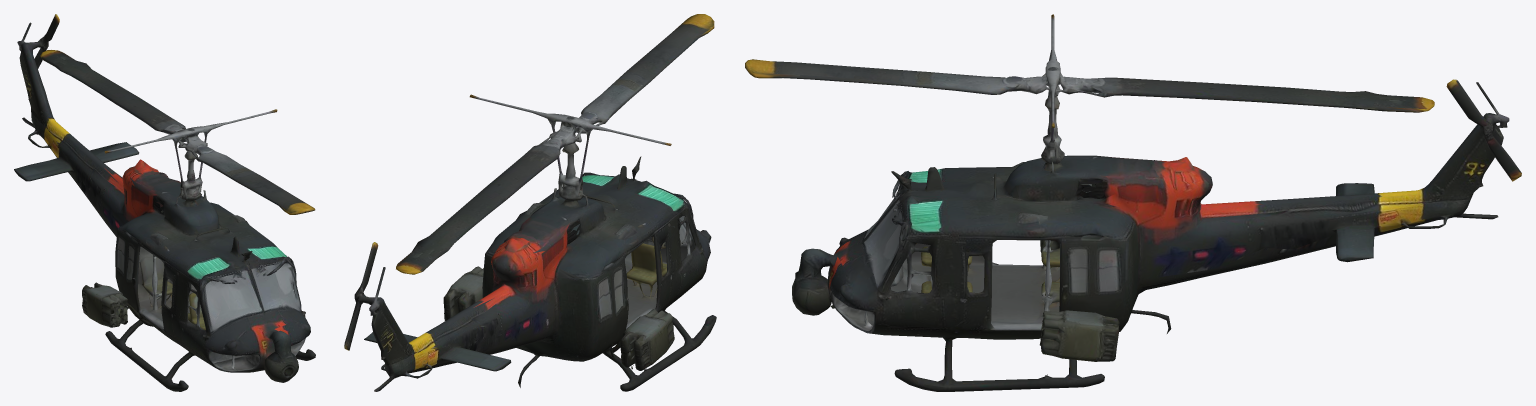
3 renders of one model, left to right at view 1: azimuth 30°, elevation 25°; view 2: azimuth 150°, elevation 25°; view 3: azimuth 270°, elevation 25°, orthographic. The views are drawn at different scales.
Visible parts, largest first — view 1: tripo_node_9cd36716; view 2: tripo_node_9cd36716; view 3: tripo_node_9cd36716.
Boxes of the visible parts, x1=… form: tripo_node_9cd36716: x1=14, y1=14, x2=315, y2=391; tripo_node_9cd36716: x1=344, y1=14, x2=716, y2=391; tripo_node_9cd36716: x1=745, y1=14, x2=1521, y2=391.
Size of the model in its own units: 4.38 by 5.22 by 12.76.
Materials: 1 (1 with a texture image).
